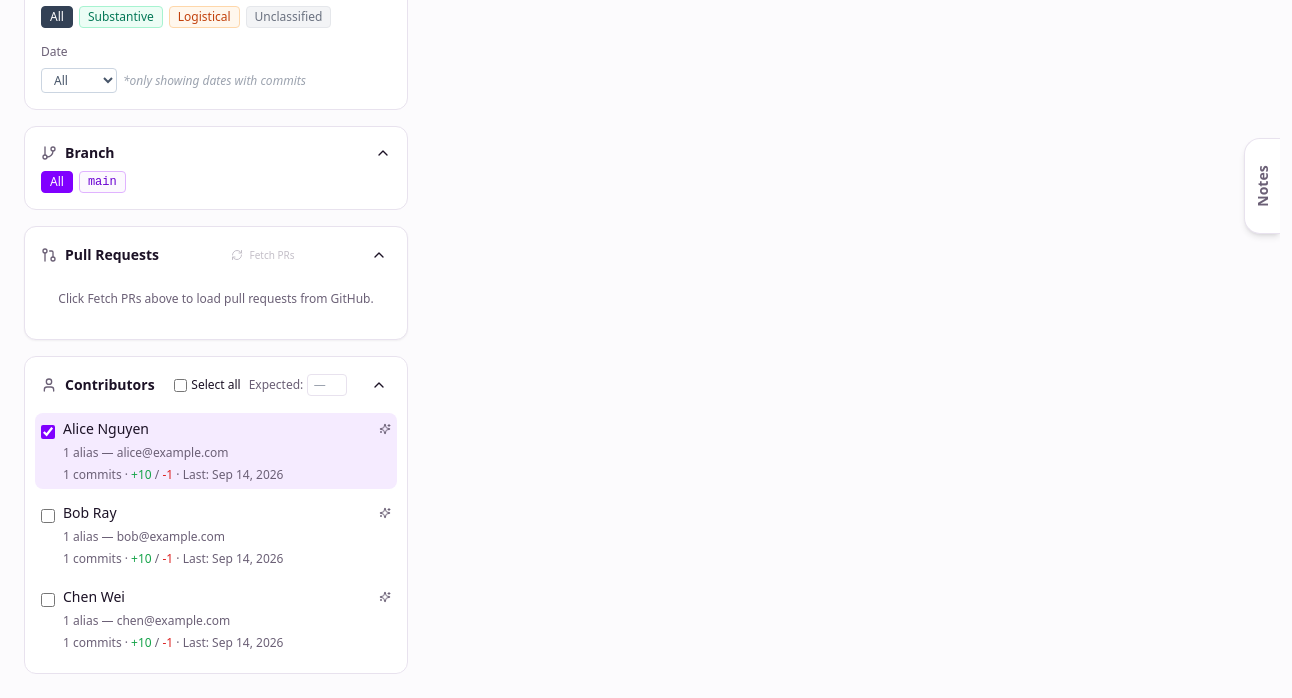
it: RepoDetailPage — ?contributor= from workspace search › drops the param when the contributor is unchecked again
(page scrolled)
Click the checkbox named "Select Alice Nguyen": (48, 432) 41,425 -> 55,439
(page scrolled)
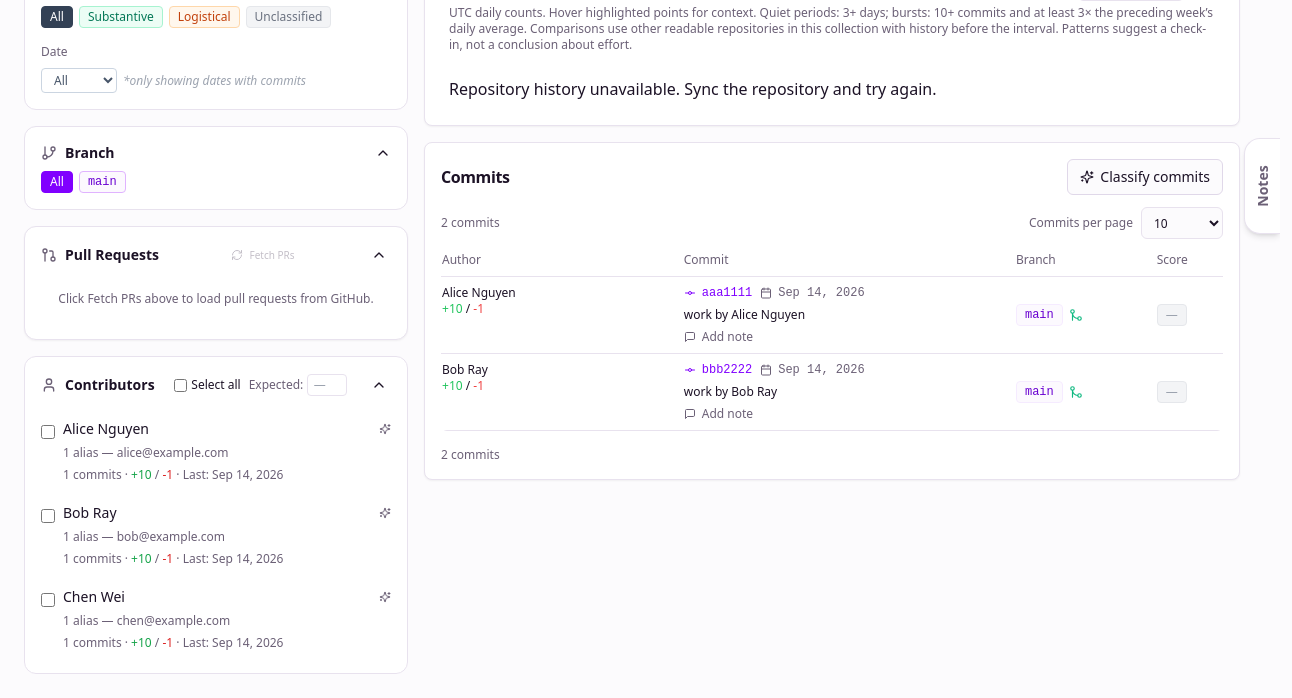
expect the text "work by Bob Ray" is shown: met, box 684,383 -> 777,400
